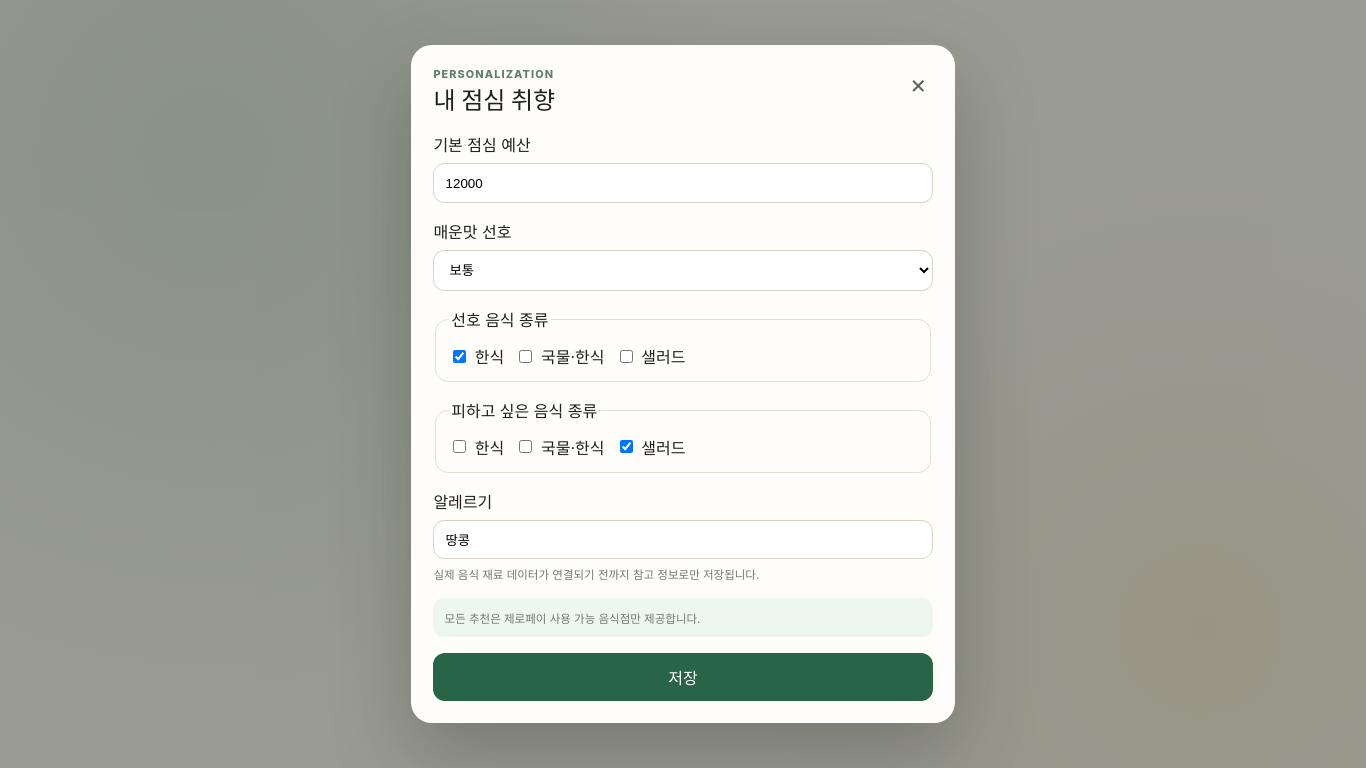
PreferencePanel › keeps preferred and disliked categories exclusive and saves the form
Expected: the number field labelled "기본 점심 예산" holds "12000", [433,164,933,203]
Expected: the checkbox labelled "한식" below "선호 음식 종류" is checked, [453,350,466,363]
Click the checkbox labelled "한식" below "피하고 싶은 음식 종류" at (460, 447), box [453,440,466,453]
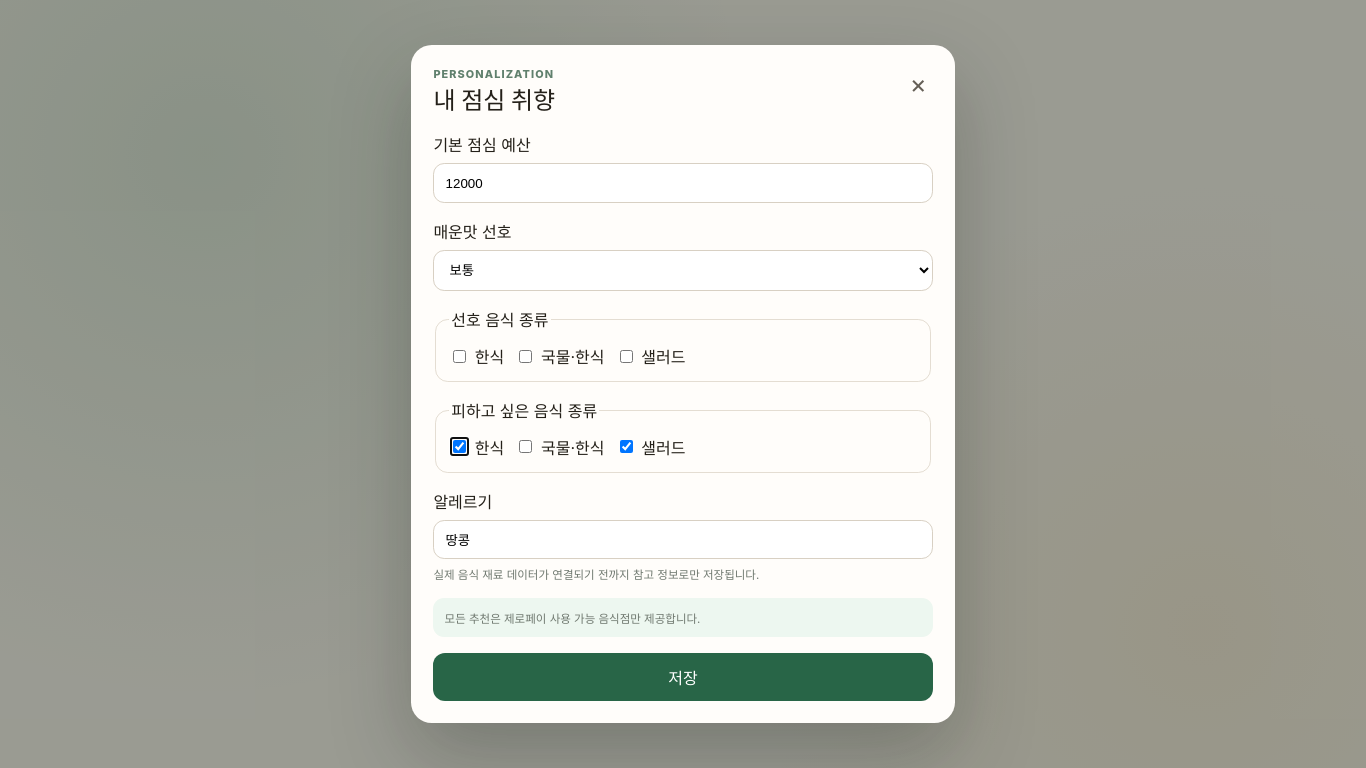
Now the checkbox labelled "한식" below "피하고 싶은 음식 종류" is checked, box [453,440,466,453]
Now the checkbox labelled "한식" below "선호 음식 종류" is not checked, box [453,350,466,363]
Click the button "저장" at (683, 677), box [433,653,933,701]
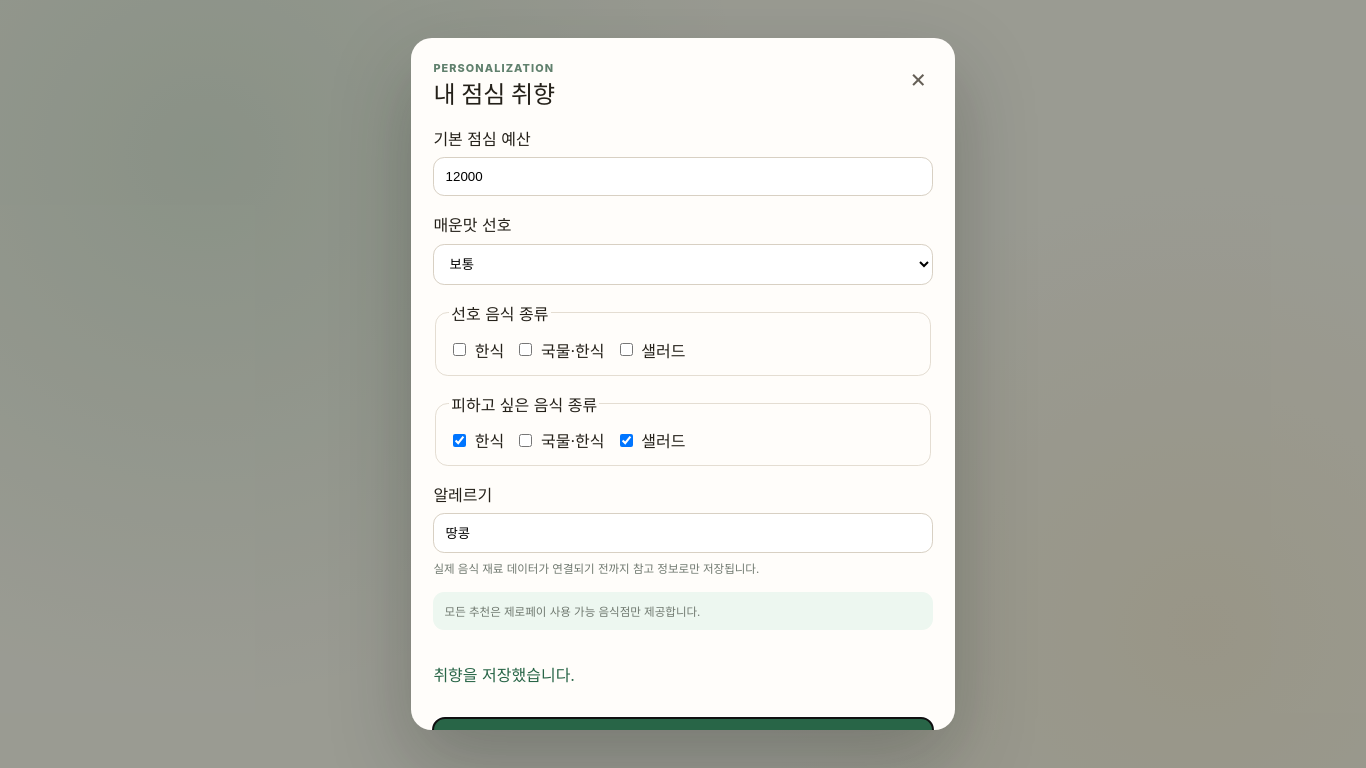
Now the text "취향을 저장했습니다." is shown, box [433,665,575,685]
